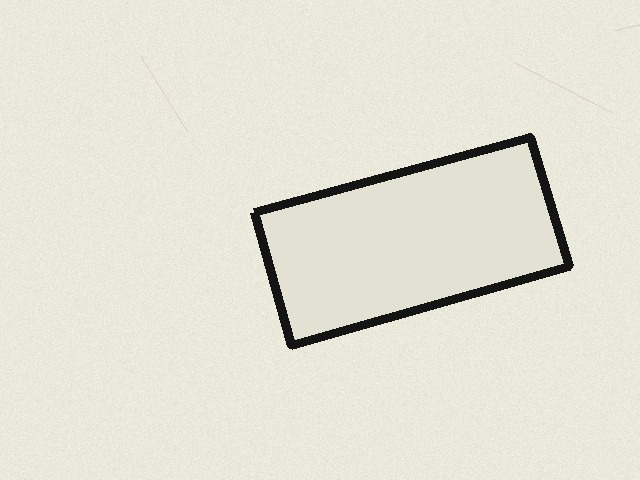parking_area: (254, 137, 569, 345)
